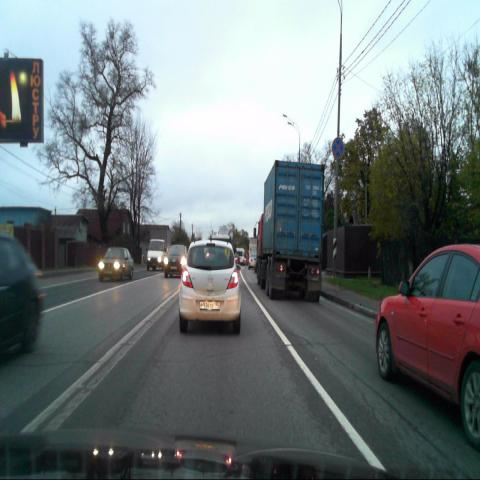3_27: (332, 137, 344, 159)
